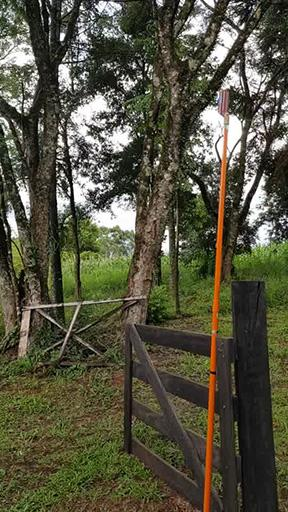Detector_Tensao_Contato: (216, 86, 228, 117)
Vara_Manobra: (202, 116, 230, 512)
